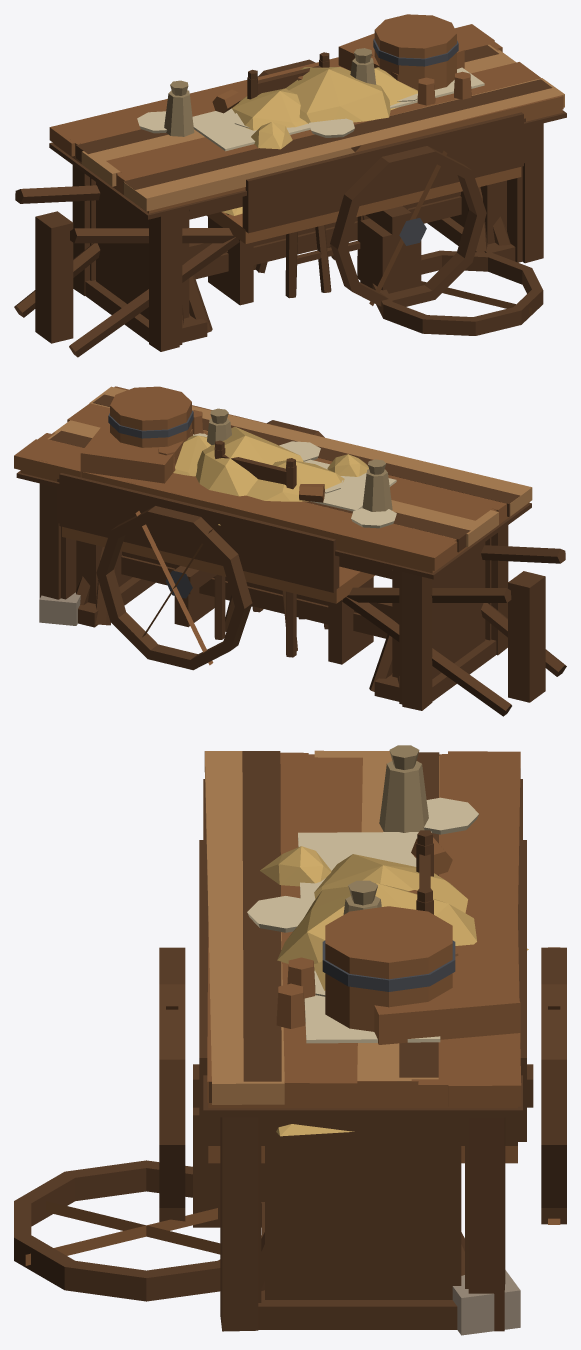
File: cluster-kit.low.glb
3 views of the same model, one above another, from view 1: azimuth 30°, elevation 25°; view 2: azimuth 150°, elevation 25°; view 3: azimuth 270°, elevation 25° (orthographic). The views are drawn at different scales.
Visible parts, largest first — view 1: cart_2, cart_3, long-table_1, long-table_4, long-table_2, long-table_3, cart_1, cart_4, chair_2, chair_1, chair_3, chair_4; view 2: long-table_4, long-table_3, long-table_1, cart_4, cart_3, cart_1, long-table_2, cart_2, chair_2, chair_3; view 3: long-table_4, long-table_1, long-table_3, long-table_2, cart_1, cart_4, cart_3, cart_2, chair_3.
Boxes of the visible parts, x1,y1,x2,y2 form: cart_2: (14, 67, 525, 352); cart_3: (15, 14, 486, 343); long-table_1: (68, 24, 564, 332); long-table_4: (49, 48, 566, 342); long-table_2: (72, 40, 563, 351); long-table_3: (49, 27, 552, 345); cart_1: (16, 213, 543, 357); cart_4: (14, 33, 464, 357); chair_2: (208, 204, 407, 305); chair_1: (248, 52, 362, 298); chair_3: (247, 59, 369, 297); chair_4: (255, 225, 335, 292); long-table_4: (16, 408, 531, 701); long-table_3: (23, 394, 520, 704); long-table_1: (14, 386, 532, 691); cart_4: (62, 418, 566, 715); cart_3: (108, 386, 565, 702); cart_1: (57, 474, 564, 716); long-table_2: (38, 386, 508, 710); cart_2: (59, 426, 565, 716); chair_2: (174, 564, 373, 664); chair_3: (214, 447, 327, 656); long-table_4: (203, 754, 522, 1329); long-table_1: (204, 745, 521, 1290); long-table_3: (209, 751, 520, 1335); long-table_2: (207, 750, 505, 1331); cart_1: (14, 947, 566, 1301); cart_4: (159, 943, 566, 1175); cart_3: (159, 906, 566, 1223); cart_2: (159, 840, 566, 1224); chair_3: (416, 843, 433, 914).
Bounding box in the file's own units: 1.73 × 0.7317 × 1.07.
